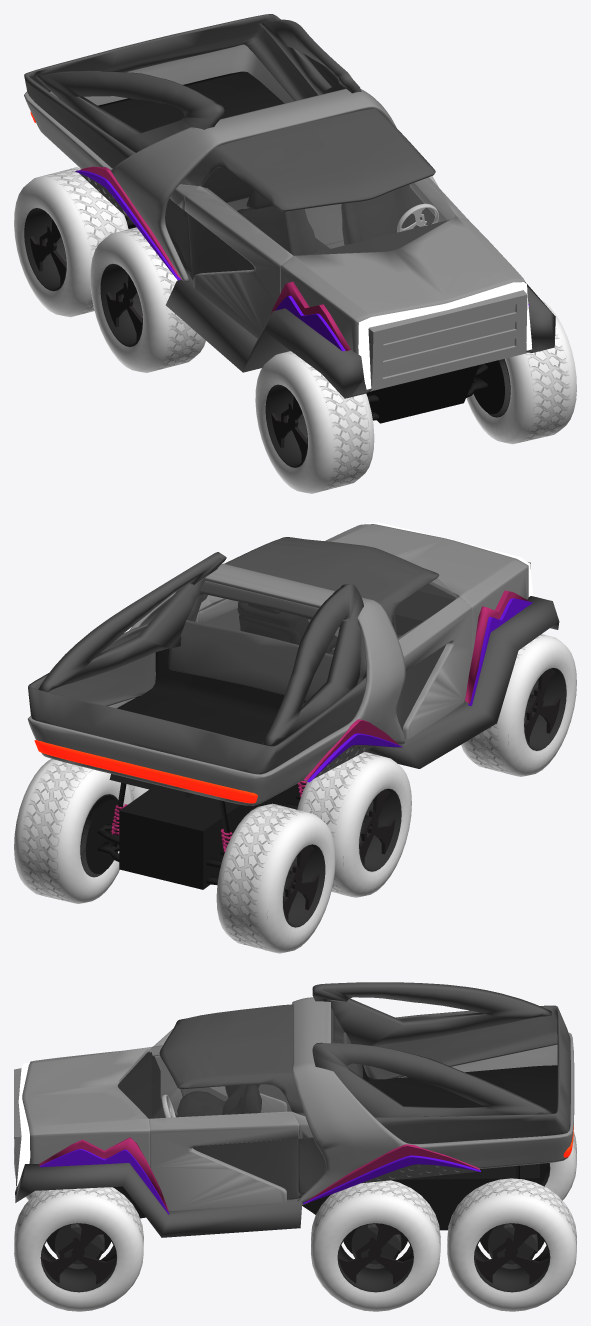
Rendered from J7_game.glb.
The picture shows the model from 3 angles, top to bottom: view 1: azimuth 30°, elevation 25°; view 2: azimuth 150°, elevation 25°; view 3: azimuth 270°, elevation 25°; orthographic projection. The views are drawn at different scales.
Visible parts, largest first — view 1: body_paint_base_game, body_paint_base_2_game, tire_game (×4), body_trim_game, body_glass_game, body_paint_base_3_game, rim_barrel_game (×3), body_paint_under_game, rim_face_game (×3), body_light_head_game, body_paint_accent_1_game, body_paint_accent_2_game; view 2: body_paint_base_2_game, tire_game (×4), body_paint_base_game, body_trim_game, body_paint_under_game, body_paint_base_3_game, body_glass_game, rim_barrel_game (×3), rim_face_game (×3), body_light_tail_game, body_paint_accent_1_game, body_paint_accent_2_game; view 3: body_paint_base_2_game, body_paint_base_game, tire_game (×4), body_trim_game, body_paint_base_3_game, body_glass_game, rim_face_game (×3), rim_barrel_game (×3), body_paint_under_game, body_paint_accent_2_game, body_paint_accent_1_game, brake_disc_game (×3) (+1 smaller).
Part boxes in pixels (x1,y1,x2,y2): body_paint_base_game: [24, 44, 527, 390]; body_paint_base_2_game: [24, 14, 438, 280]; tire_game (×4): [14, 167, 576, 493]; body_trim_game: [98, 71, 504, 420]; body_glass_game: [200, 167, 454, 255]; body_paint_base_3_game: [165, 197, 555, 398]; rim_barrel_game (×3): [24, 208, 307, 467]; body_paint_under_game: [124, 197, 479, 423]; rim_face_game (×3): [30, 219, 307, 461]; body_light_head_game: [358, 282, 531, 391]; body_paint_accent_1_game: [80, 166, 350, 351]; body_paint_accent_2_game: [75, 170, 529, 351]; body_paint_base_2_game: [28, 537, 445, 781]; tire_game (×4): [14, 634, 576, 953]; body_paint_base_game: [28, 524, 530, 805]; body_trim_game: [85, 584, 455, 884]; body_paint_under_game: [109, 774, 305, 889]; body_paint_base_3_game: [308, 596, 559, 768]; body_glass_game: [187, 578, 457, 654]; rim_barrel_game (×3): [283, 668, 566, 927]; rim_face_game (×3): [283, 668, 560, 920]; body_light_tail_game: [34, 740, 257, 803]; body_paint_accent_1_game: [110, 590, 529, 854]; body_paint_accent_2_game: [307, 598, 532, 782]; body_paint_base_2_game: [159, 982, 570, 1205]; body_paint_base_game: [14, 997, 574, 1211]; tire_game (×4): [14, 1131, 576, 1311]; body_trim_game: [47, 1052, 557, 1253]; body_paint_base_3_game: [15, 1163, 302, 1237]; body_glass_game: [117, 1016, 344, 1118]; rim_face_game (×3): [42, 1223, 548, 1284]; rim_barrel_game (×3): [40, 1223, 550, 1292]; body_paint_under_game: [112, 1164, 539, 1230]; body_paint_accent_2_game: [40, 1149, 480, 1214]; body_paint_accent_1_game: [39, 1137, 479, 1212]; brake_disc_game (×3): [55, 1224, 535, 1269].
Size of what is drawn, in the model's own units: 1.91 by 1.89 by 3.91.
17 materials, 1 textured.
